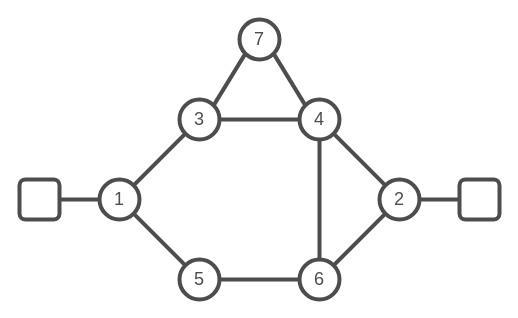
Some shapes in this 518 by 318 pixel diagram are drawn without their labels. The shapes that lost their labels are listed below. From the top down, each one's box as (x1, y1, x2, y2) in pixels, then its label:
(17, 177, 61, 221): lx1
(457, 177, 501, 221): lx2
